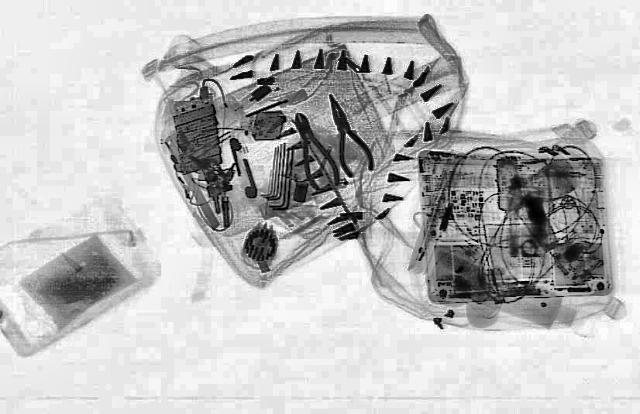Pliers: (314, 91, 381, 177), (284, 110, 340, 190)
